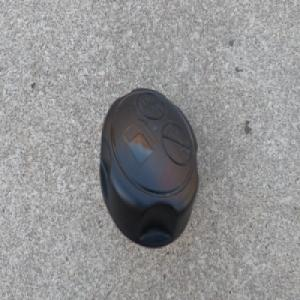FuelCap: (98, 85, 200, 249)
